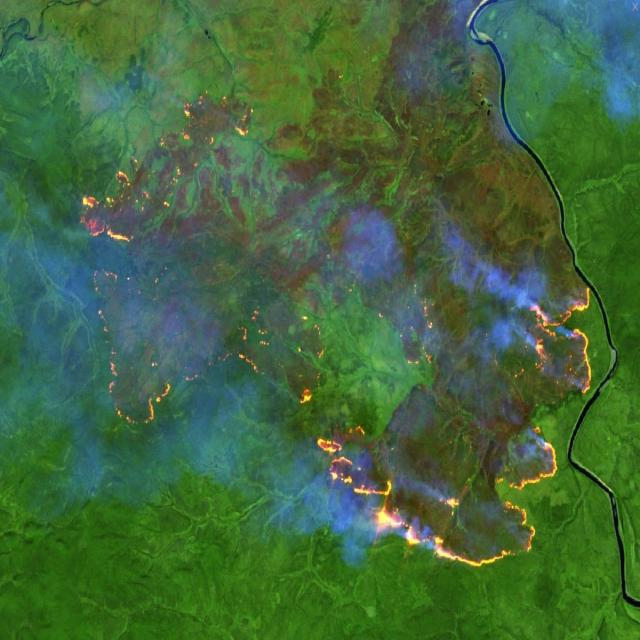fire: (66, 84, 597, 575)
